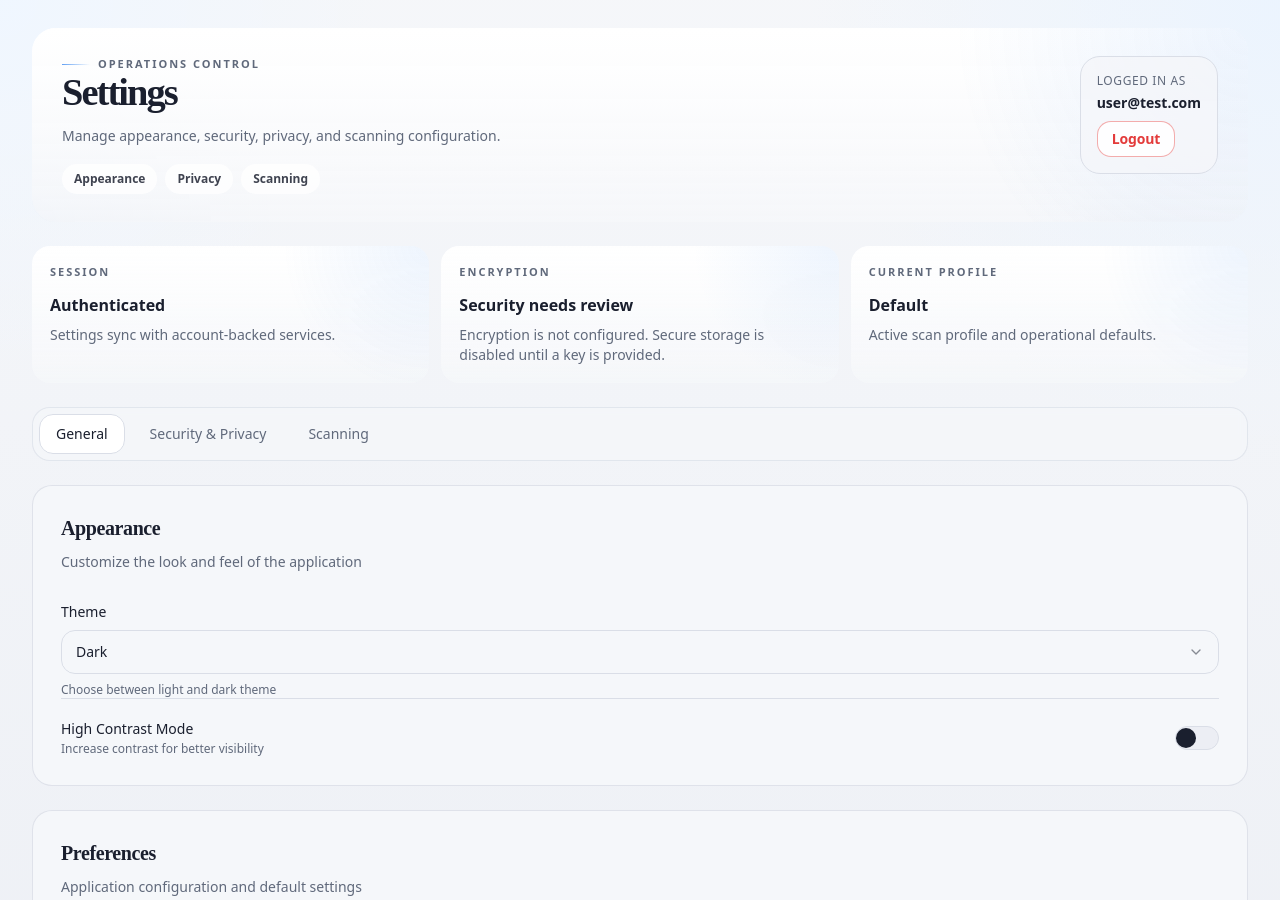
Test case: Settings — External Services (secrets) › shows 'Not configured' when no secret exists
Click the button "Security & Privacy" at coordinates (208, 434), box top-left (133, 414), bottom-right (283, 454)
(page scrolled)
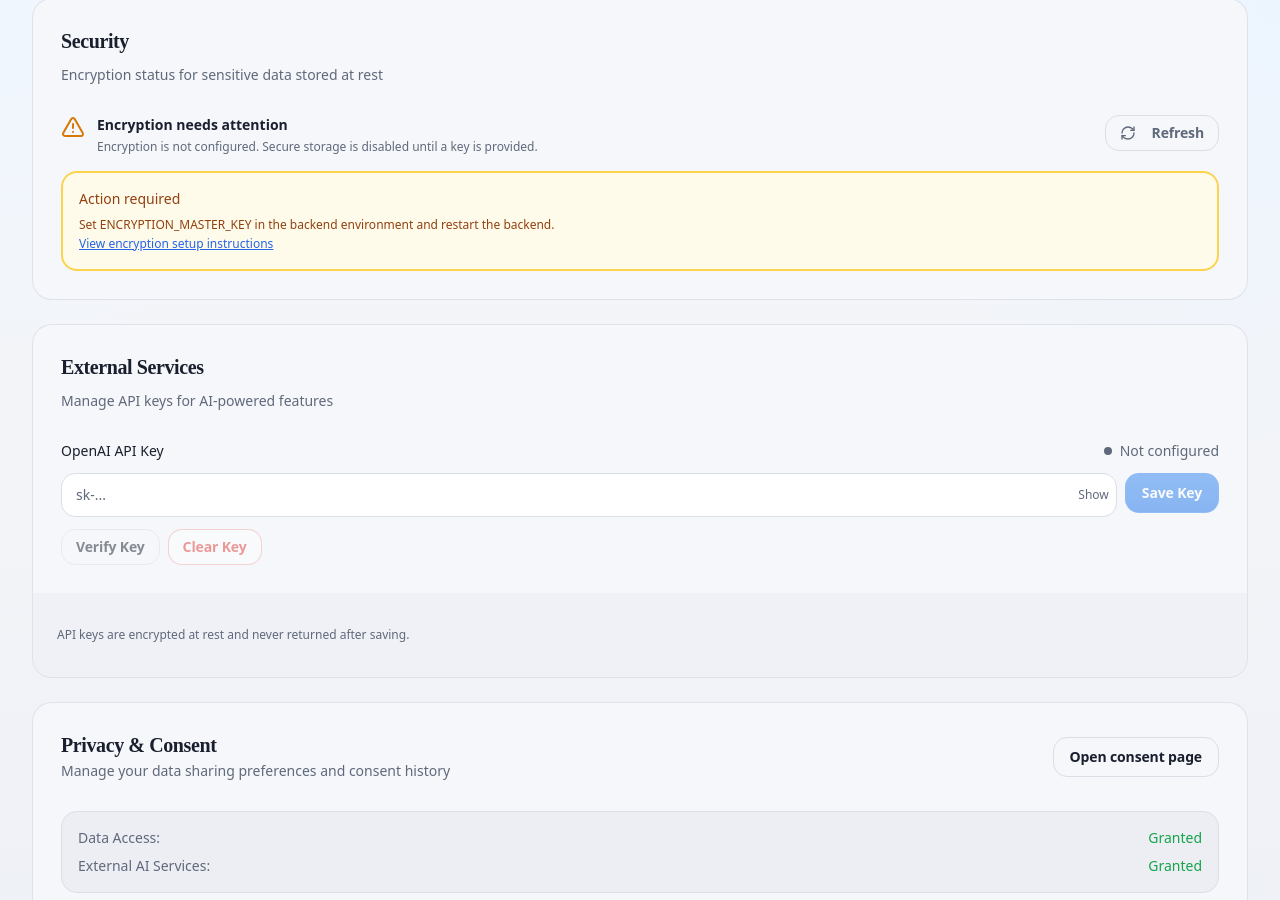
Expected: the text "Not configured" is shown, top-left (1120, 441), bottom-right (1219, 461)
